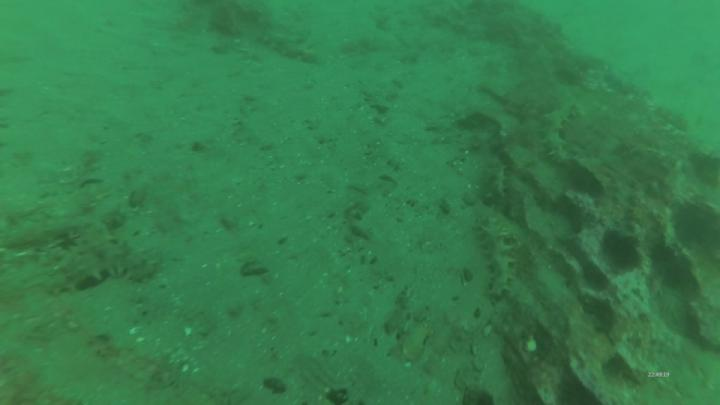holothurian: (45, 245, 163, 299), (3, 215, 123, 256), (477, 214, 524, 303), (258, 26, 323, 68), (538, 100, 575, 170), (485, 157, 515, 207)
